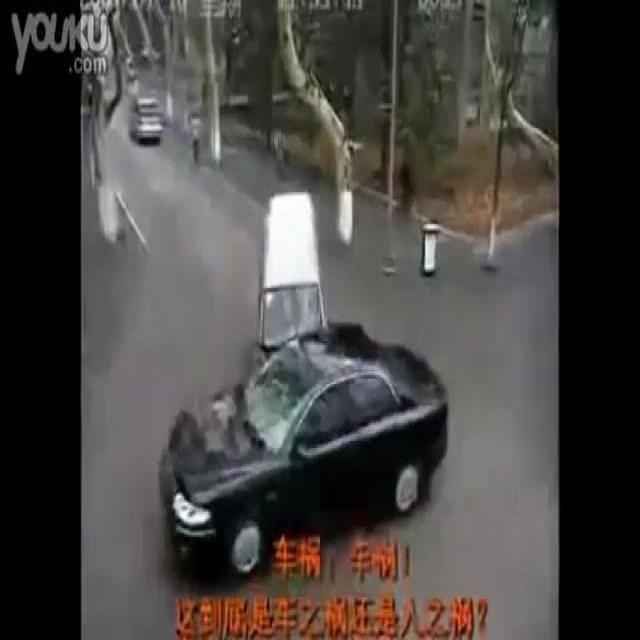moderate: (155, 184, 452, 580)
